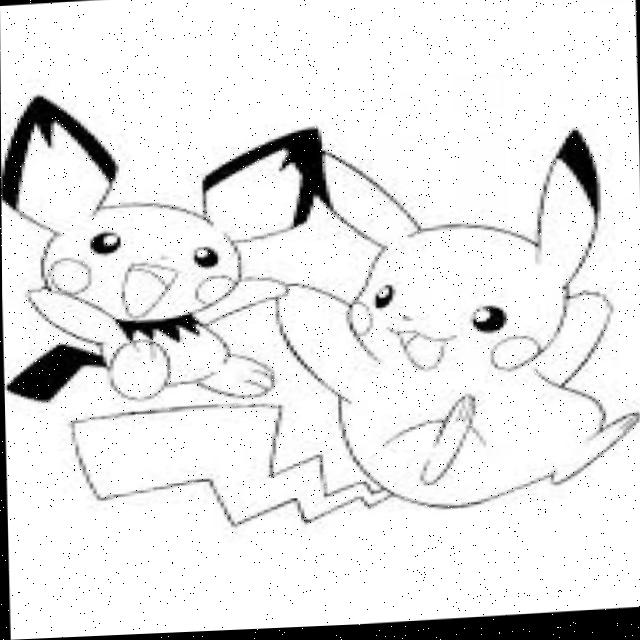pichu: (1, 115, 332, 441)
